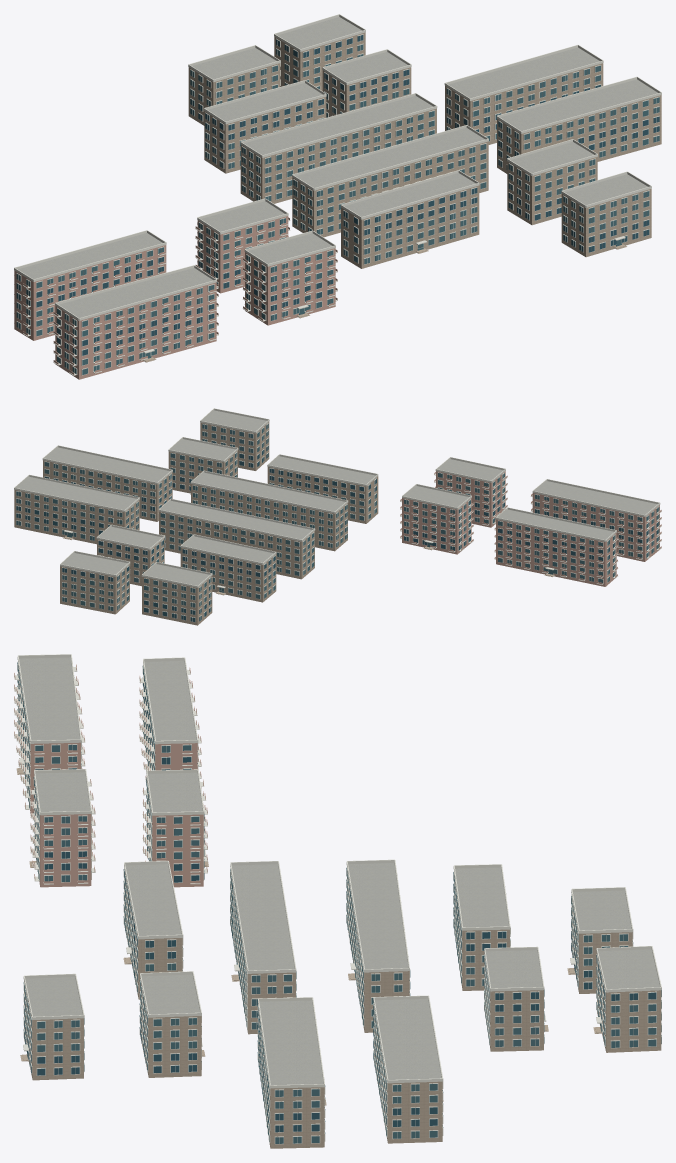
The model's file is chunk-p1-p1.glb.
3 views of the same model, one above another, from view 1: azimuth 30°, elevation 25°; view 2: azimuth 150°, elevation 25°; view 3: azimuth 270°, elevation 25° (orthographic). The views are drawn at different scales.
Visible parts, largest first — view 1: chunk-p1-p1; view 2: chunk-p1-p1; view 3: chunk-p1-p1.
Part boxes in pixels (x1,y1,x2,y2): chunk-p1-p1: (14,14,661,379); chunk-p1-p1: (14,408,661,625); chunk-p1-p1: (14,654,661,1148).
Bounding box in the file's own units: 249 × 24.36 × 165.
6 materials, 2 textured.
